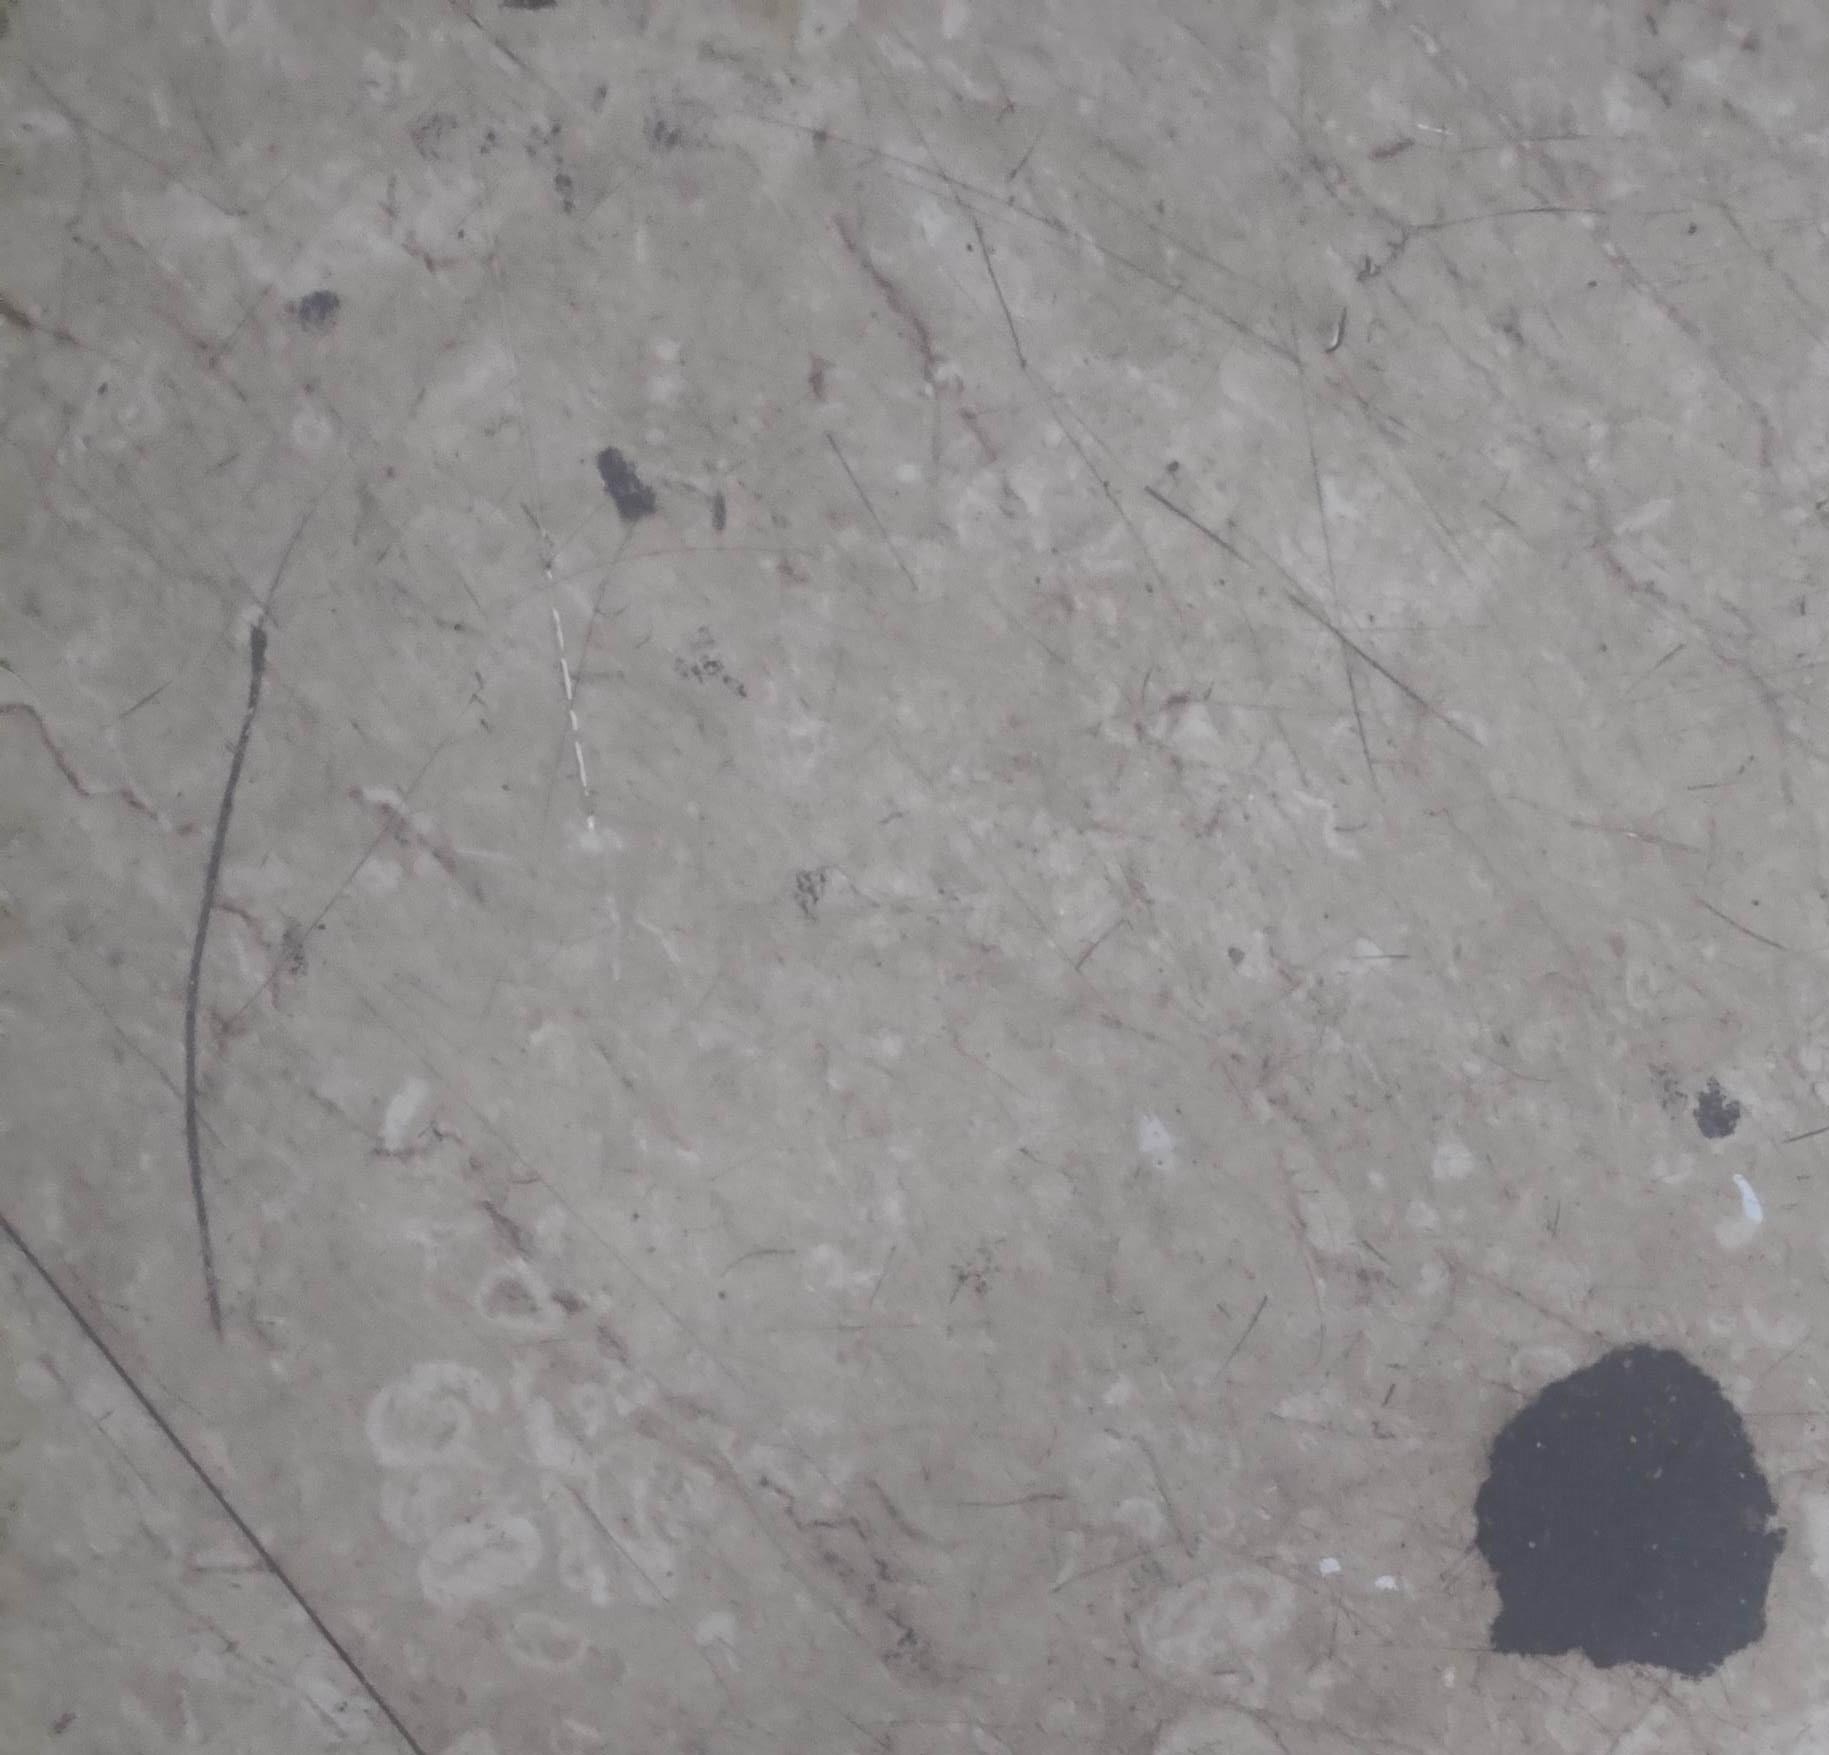grey spot: (1471, 1335, 1778, 1682)
